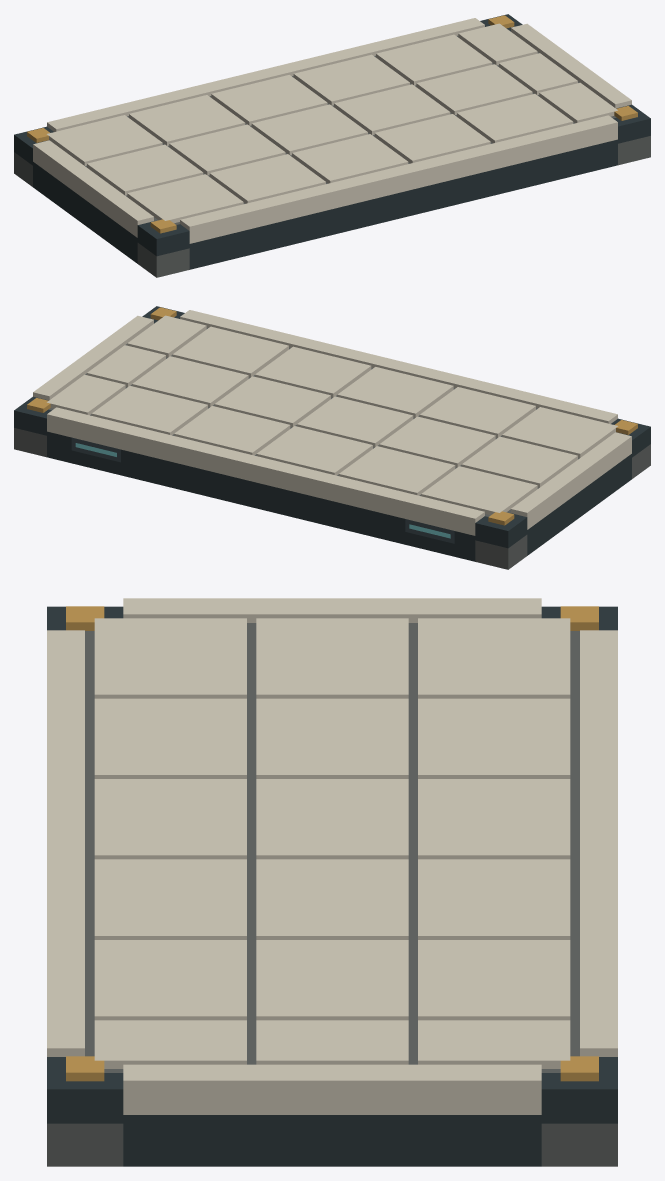
3 views of the same model, one above another, from view 1: azimuth 30°, elevation 25°; view 2: azimuth 150°, elevation 25°; view 3: azimuth 270°, elevation 25° (orthographic). The views are drawn at different scales.
Parts seen in each view (by area): view 1: 共享回廊楼板; view 2: 共享回廊楼板; view 3: 共享回廊楼板.
Boxes of the visible parts, box(x1,y1,x2,y2) form: 共享回廊楼板: box(14, 14, 650, 277); 共享回廊楼板: box(14, 306, 650, 569); 共享回廊楼板: box(47, 598, 617, 1166).
Size of the model in its own units: 2.4 by 0.2 by 1.2.
Materials: 6 (6 with a texture image).
